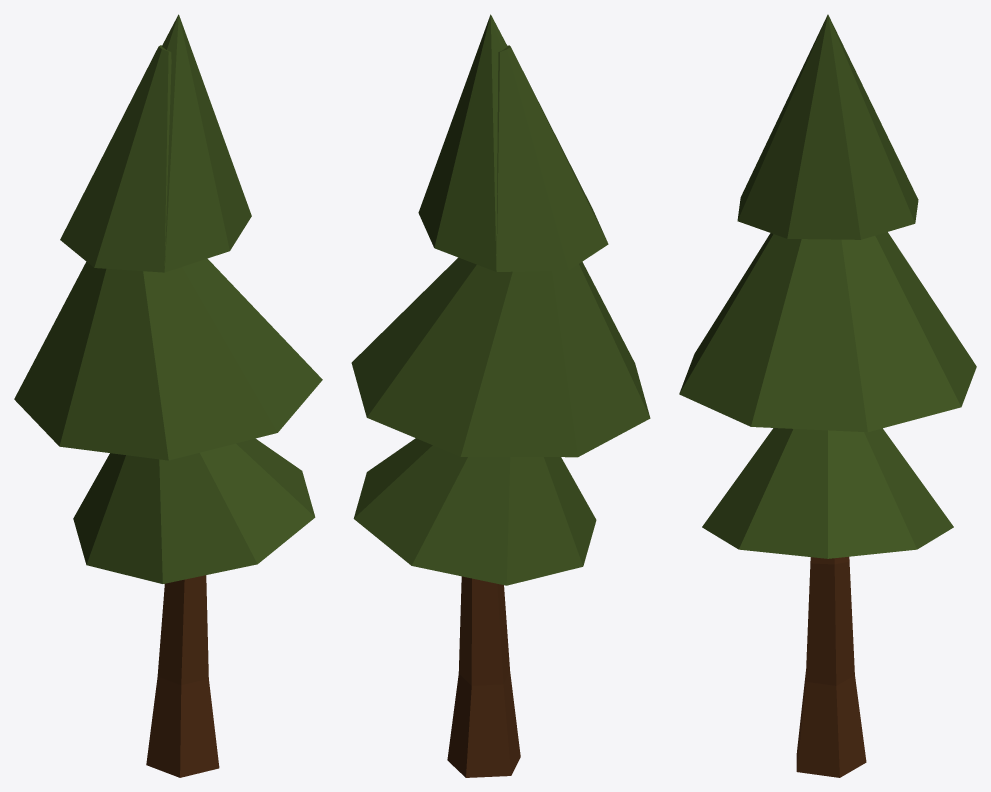
Rendered from tree3.fbx.
3 renders of one model, left to right at view 1: azimuth 30°, elevation 25°; view 2: azimuth 150°, elevation 25°; view 3: azimuth 270°, elevation 25°, orthographic.
Visible parts, largest first — view 1: Cylinder; view 2: Cylinder; view 3: Cylinder.
Part boxes in pixels (box(x1,y1,x2,y2)): Cylinder: box(14, 14, 322, 777); Cylinder: box(351, 14, 650, 777); Cylinder: box(679, 14, 976, 777).
Size of the model in its own units: 457 by 1245 by 450.
